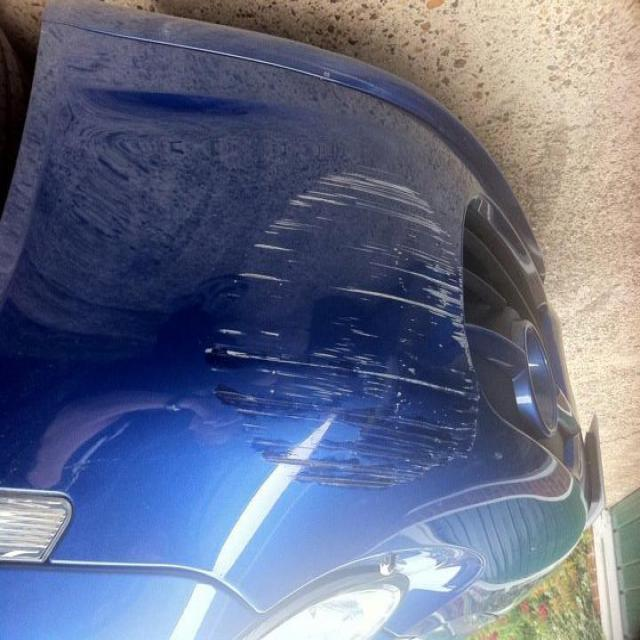scratch: (200, 165, 486, 488)
